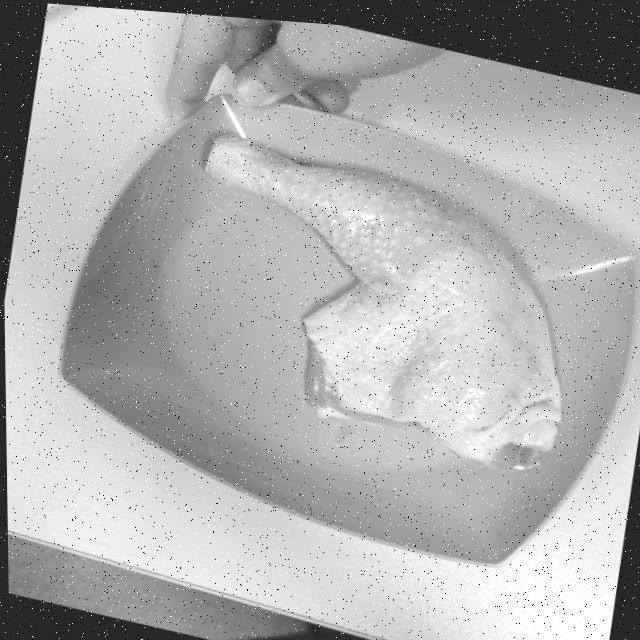quater: (200, 124, 556, 477)
